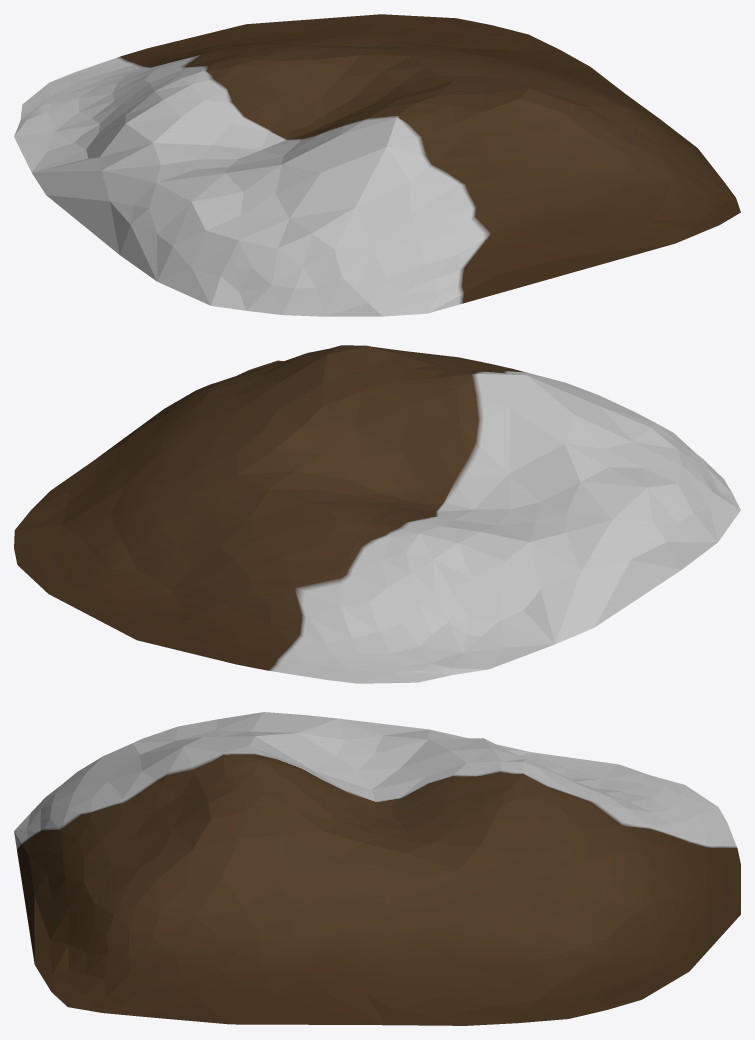
File: Hill_04.fbx
The picture shows the model from 3 angles, top to bottom: view 1: azimuth 30°, elevation 25°; view 2: azimuth 150°, elevation 25°; view 3: azimuth 270°, elevation 25°; orthographic projection. The views are drawn at different scales.
Visible parts, largest first — view 1: Hill_04; view 2: Hill_04; view 3: Hill_04.
Part boxes in pixels (x1,y1,x2,y2): Hill_04: [14, 14, 740, 316]; Hill_04: [14, 345, 740, 683]; Hill_04: [14, 712, 740, 1025].
Size of the model in its own units: 19.17 by 3.58 by 20.79.
